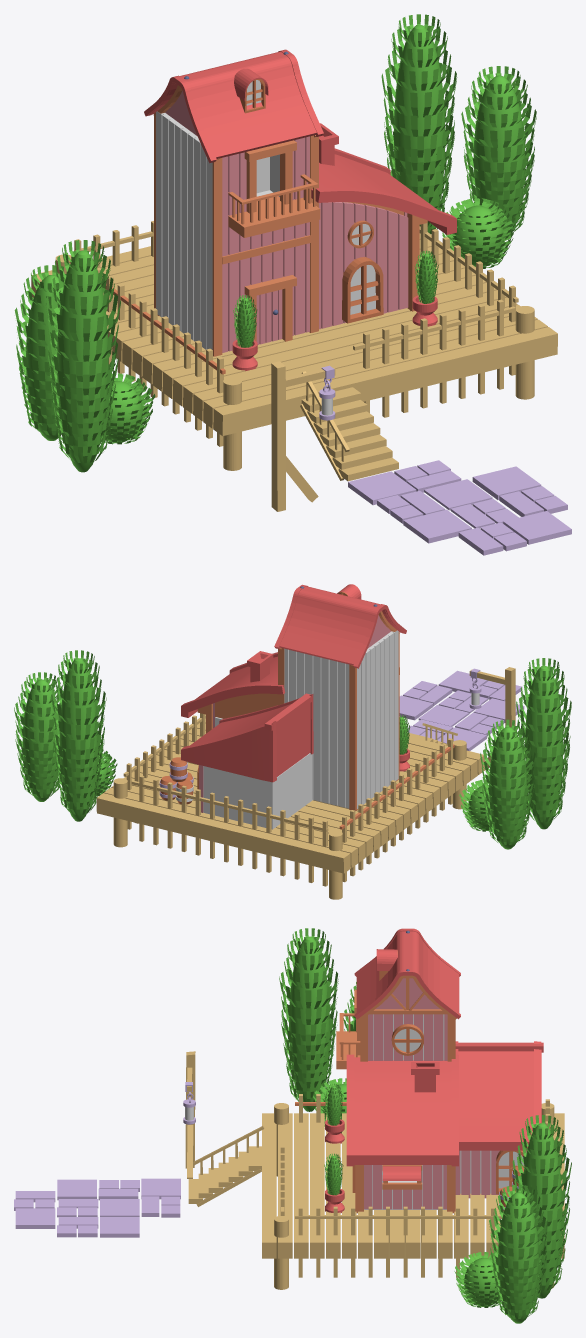
Rendered from domik_blend12.fbx.
3 views of the same model, one above another, from view 1: azimuth 30°, elevation 25°; view 2: azimuth 150°, elevation 25°; view 3: azimuth 270°, elevation 25° (orthographic). The views are drawn at different scales.
Visible parts, largest first — view 1: Cube.001, Cube.002, Cube.003; view 2: Cube.001, Cube.003, Cube.002; view 3: Cube.001, Cube.002, Cube.003.
Boxes of the visible parts, x1,y1,x2,y2 form: Cube.001: [31, 49, 571, 555]; Cube.002: [381, 14, 536, 268]; Cube.003: [14, 240, 155, 472]; Cube.001: [96, 584, 524, 899]; Cube.003: [459, 658, 571, 849]; Cube.002: [14, 650, 117, 821]; Cube.001: [14, 928, 564, 1289]; Cube.002: [454, 1115, 571, 1323]; Cube.003: [279, 928, 356, 1133].
Size of the model in its own units: 1280 by 646 by 1274.
